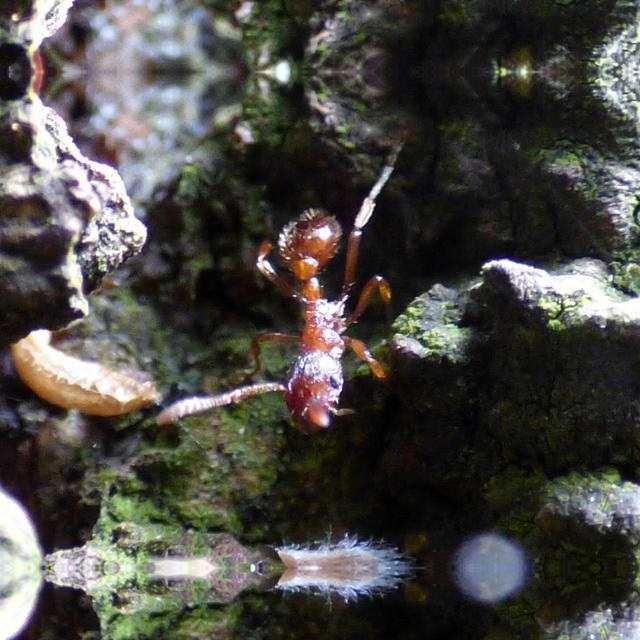Myrmica: (231, 186, 367, 442)
